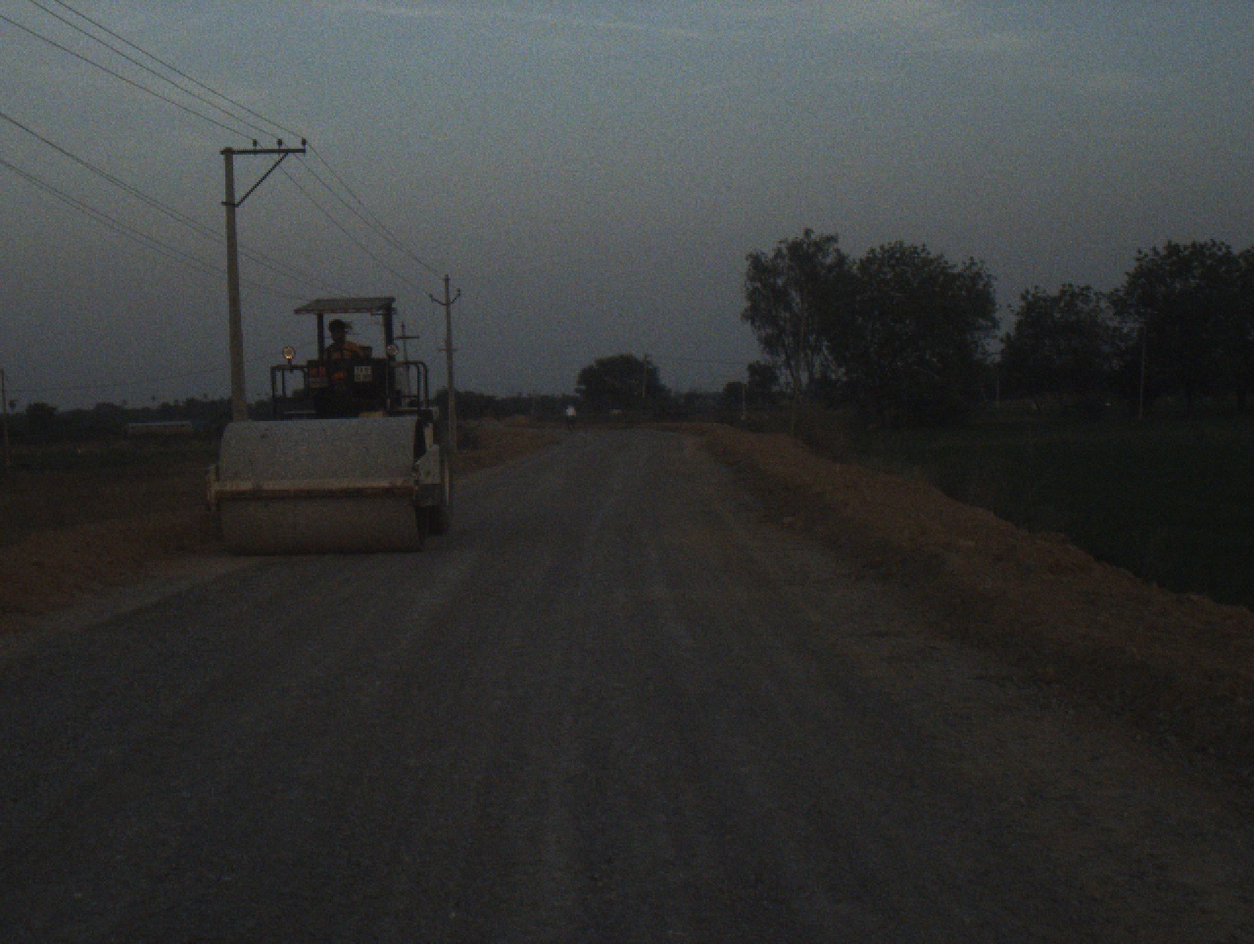vehicle fallback: (210, 284, 455, 549)
